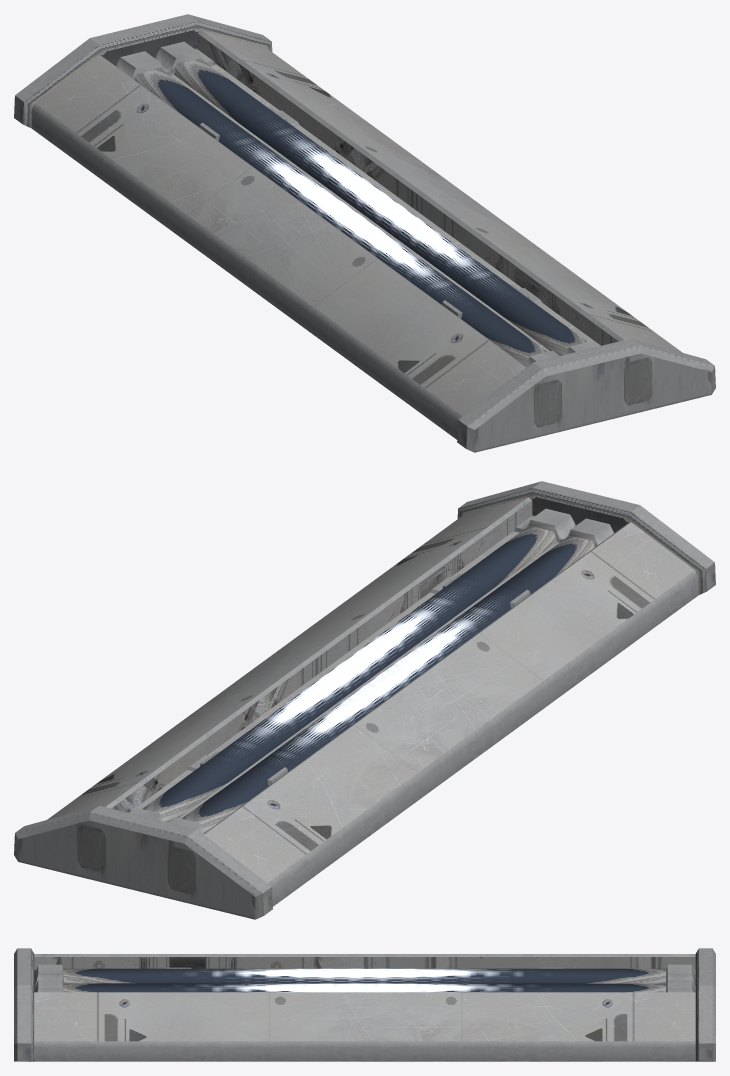
File: SM_Light3.fbx
The picture shows the model from 3 angles, top to bottom: view 1: azimuth 30°, elevation 25°; view 2: azimuth 150°, elevation 25°; view 3: azimuth 270°, elevation 25°; orthographic projection. The views are drawn at different scales.
Parts seen in each view (by area): view 1: SM_Light3_LOD0; view 2: SM_Light3_LOD0; view 3: SM_Light3_LOD0.
Part boxes in pixels (x1=…): SM_Light3_LOD0: x1=14, y1=14, x2=715, y2=452; SM_Light3_LOD0: x1=14, y1=481, x2=715, y2=919; SM_Light3_LOD0: x1=14, y1=948, x2=715, y2=1061.
Bounding box in the file's own units: 31.6 × 100 × 7.88.
